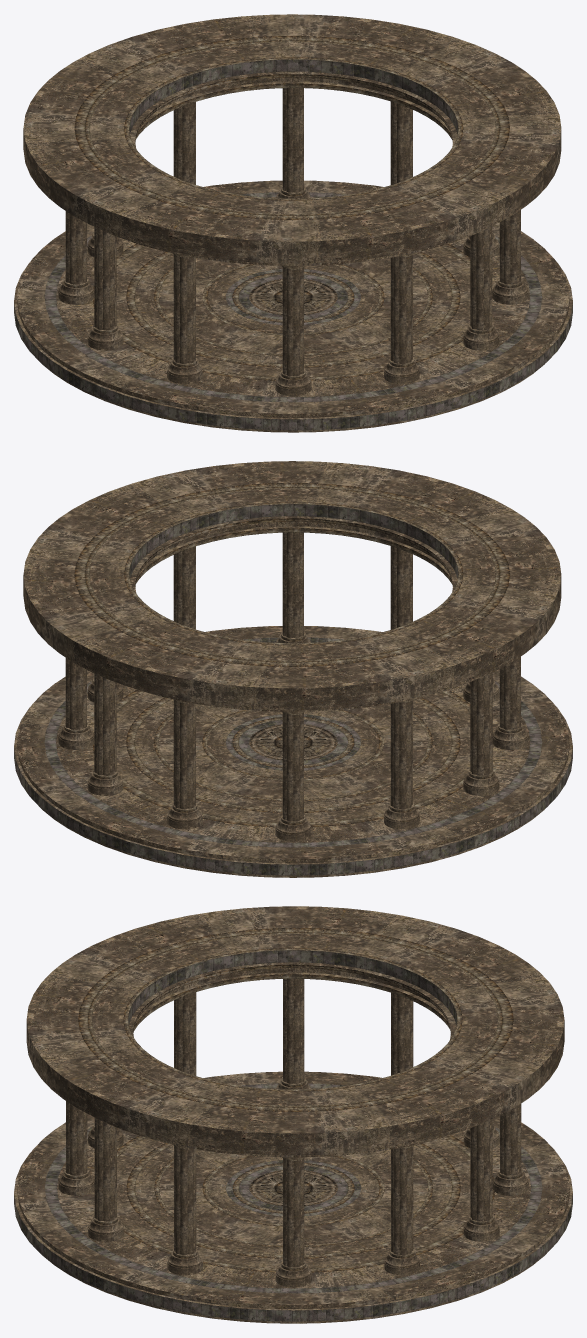
Rendered from materials_5_building_21.fbx.
3 renders of one model, top to bottom at view 1: azimuth 30°, elevation 25°; view 2: azimuth 150°, elevation 25°; view 3: azimuth 270°, elevation 25°, orthographic.
Parts seen in each view (by area): view 1: materials_5_building_21; view 2: materials_5_building_21; view 3: materials_5_building_21.
Boxes of the visible parts, bbox=[...] form: materials_5_building_21: bbox=[14, 14, 572, 432]; materials_5_building_21: bbox=[14, 461, 572, 877]; materials_5_building_21: bbox=[14, 906, 572, 1323].
Size of the model in its own units: 1055 by 389 by 1055.
